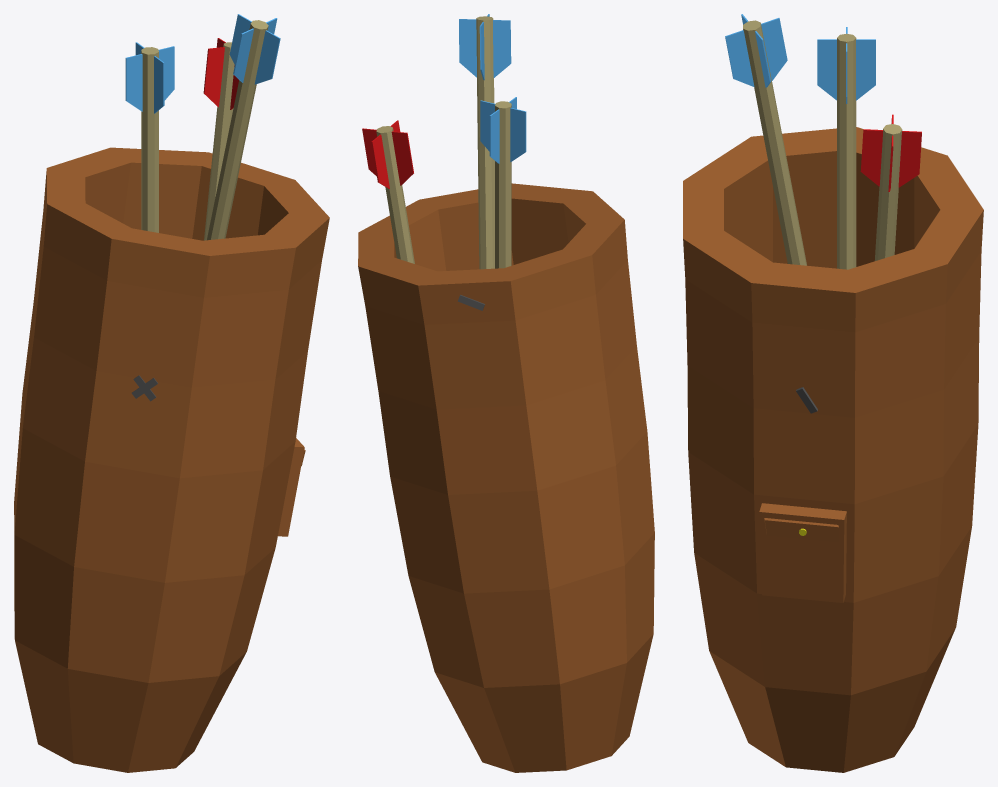
File: carquois.glb
3 renders of one model, left to right at view 1: azimuth 30°, elevation 25°; view 2: azimuth 150°, elevation 25°; view 3: azimuth 270°, elevation 25°, orthographic. The views are drawn at different scales.
Parts seen in each view (by area): view 1: Cylindre; view 2: Cylindre; view 3: Cylindre.
Part boxes in pixels (left/top/right/bottom): Cylindre: left=14, top=14, right=329, bottom=772; Cylindre: left=358, top=14, right=654, bottom=772; Cylindre: left=683, top=14, right=983, bottom=772.
Bounding box in the file's own units: 0.5246 × 1.3 × 0.4578.
